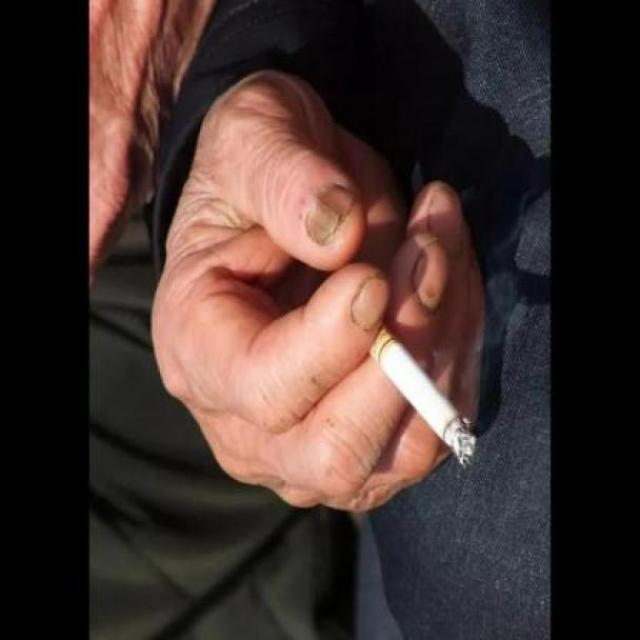rokok: (366, 325, 479, 469)
